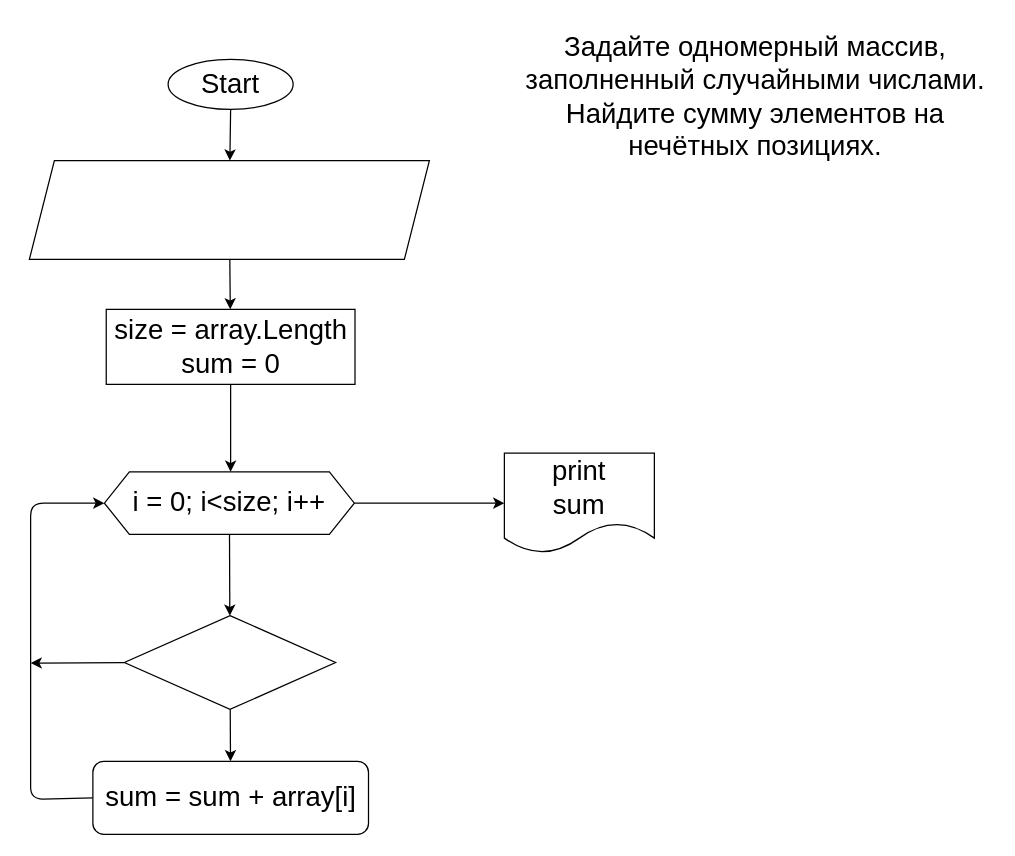
Image size: 1015x856. Some labels were removed from this diagram. The shapes that lost their labels are listed below. From the top down, each one's centre as x and y in pixels, then its label:
At (x=228, y=209): "array [size] array[i] = Random (1, 200)".
At (x=229, y=661): "i % 2 > 0".
